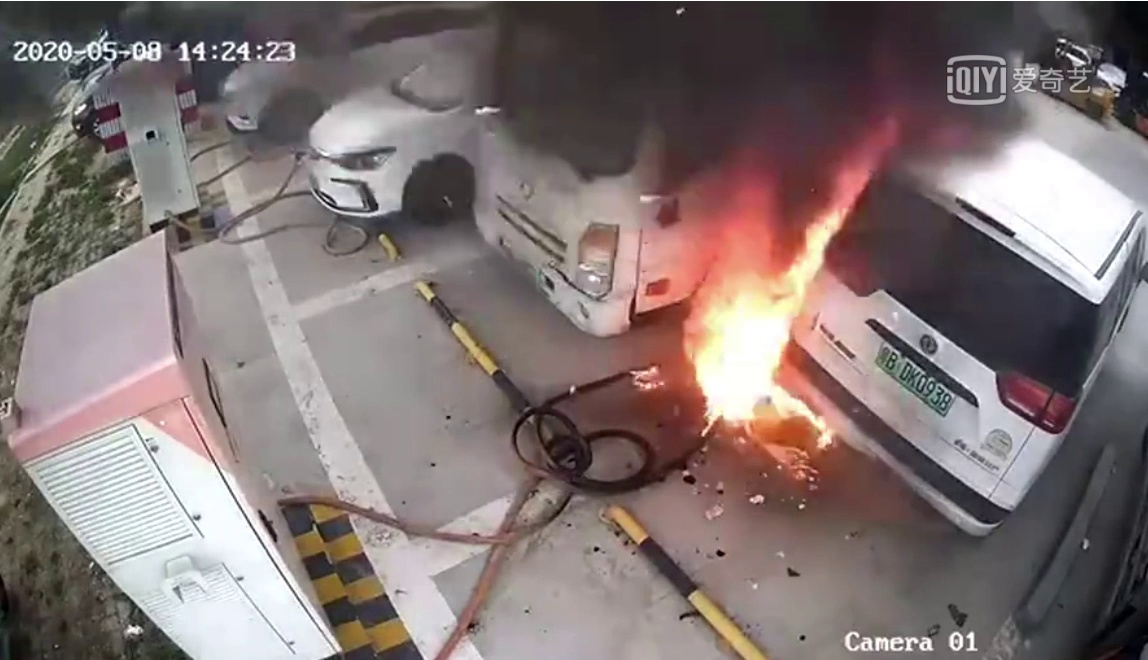fire: (673, 221, 841, 446)
smoke: (492, 17, 1007, 194)
